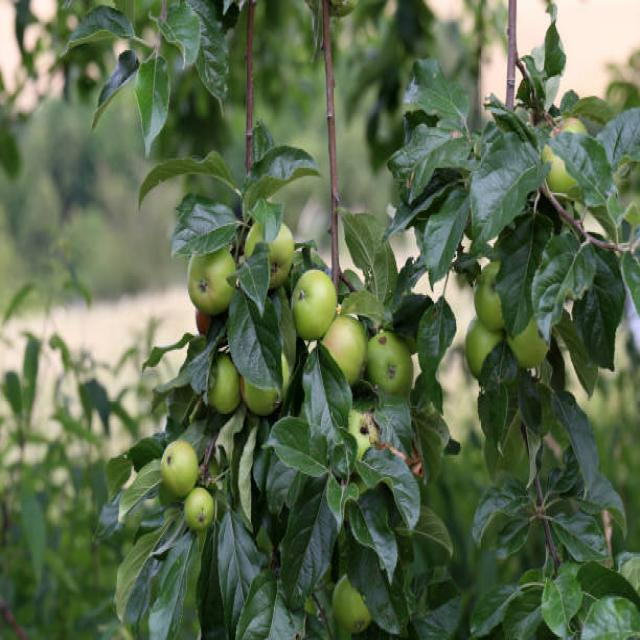Unripe: (186, 241, 236, 314), (291, 267, 336, 339), (160, 438, 198, 499)
